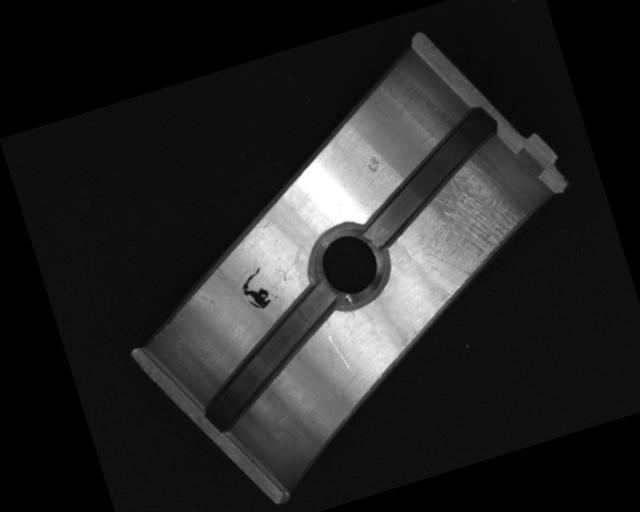blot: (235, 265, 275, 316)
bruise: (362, 151, 385, 175)
gap: (174, 283, 361, 436), (341, 104, 519, 247)
hole: (298, 215, 397, 317)
nick: (329, 332, 353, 377)
scratch: (397, 155, 539, 294)
